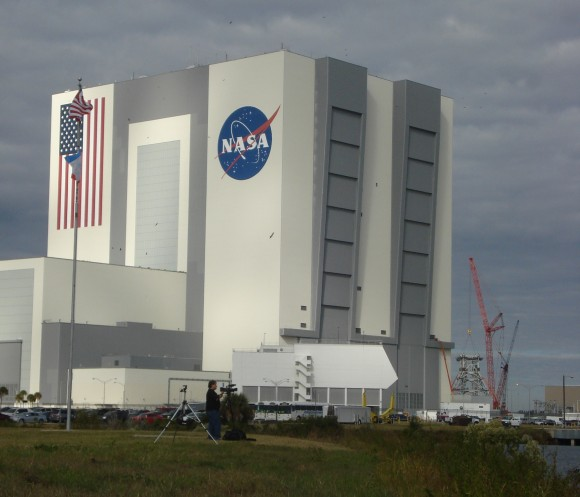NASA: (208, 101, 284, 181)
